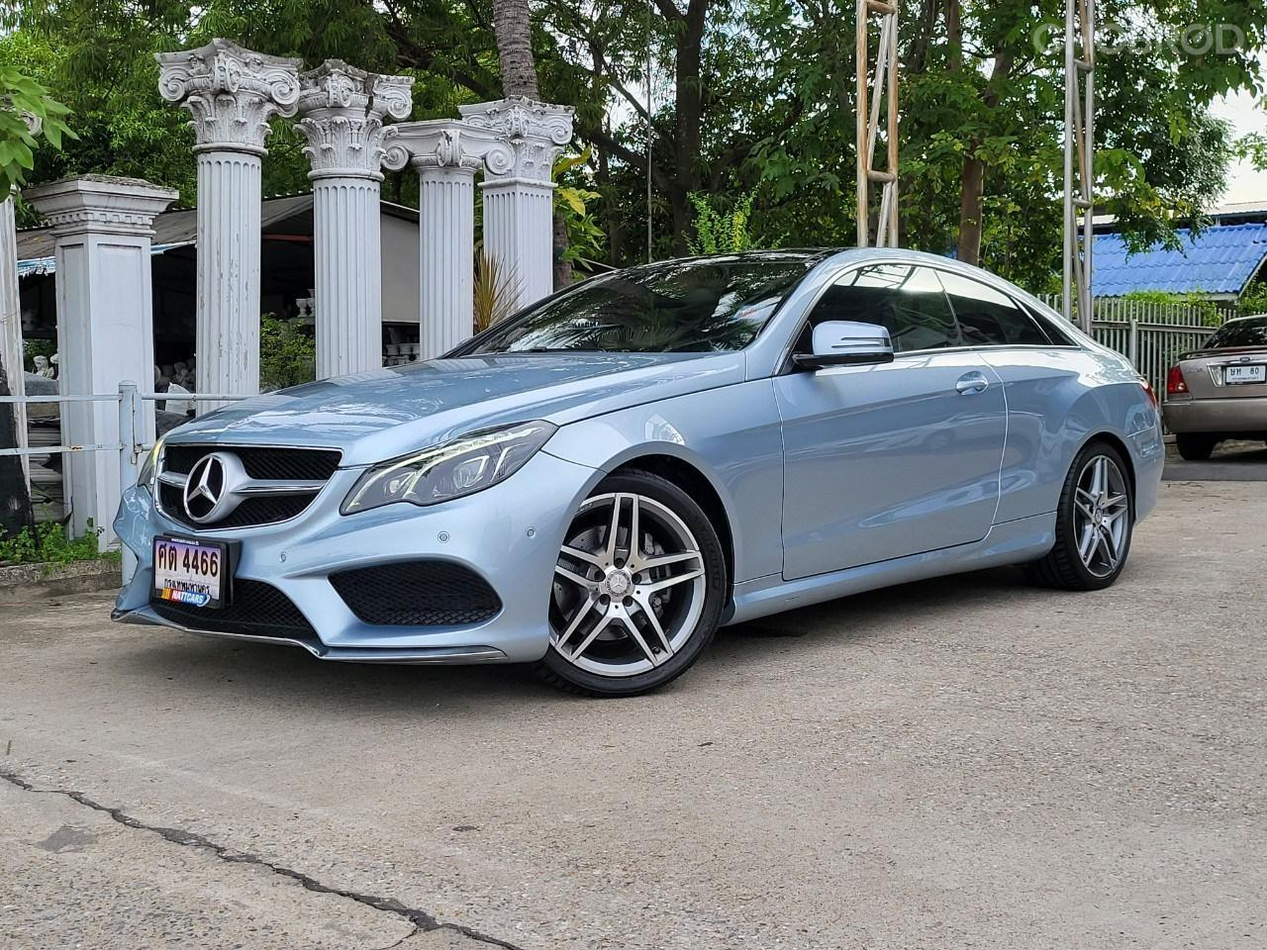license-plate: (149, 529, 241, 614)
